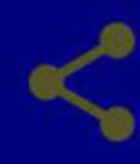ImgButton: (1, 1, 139, 163)
